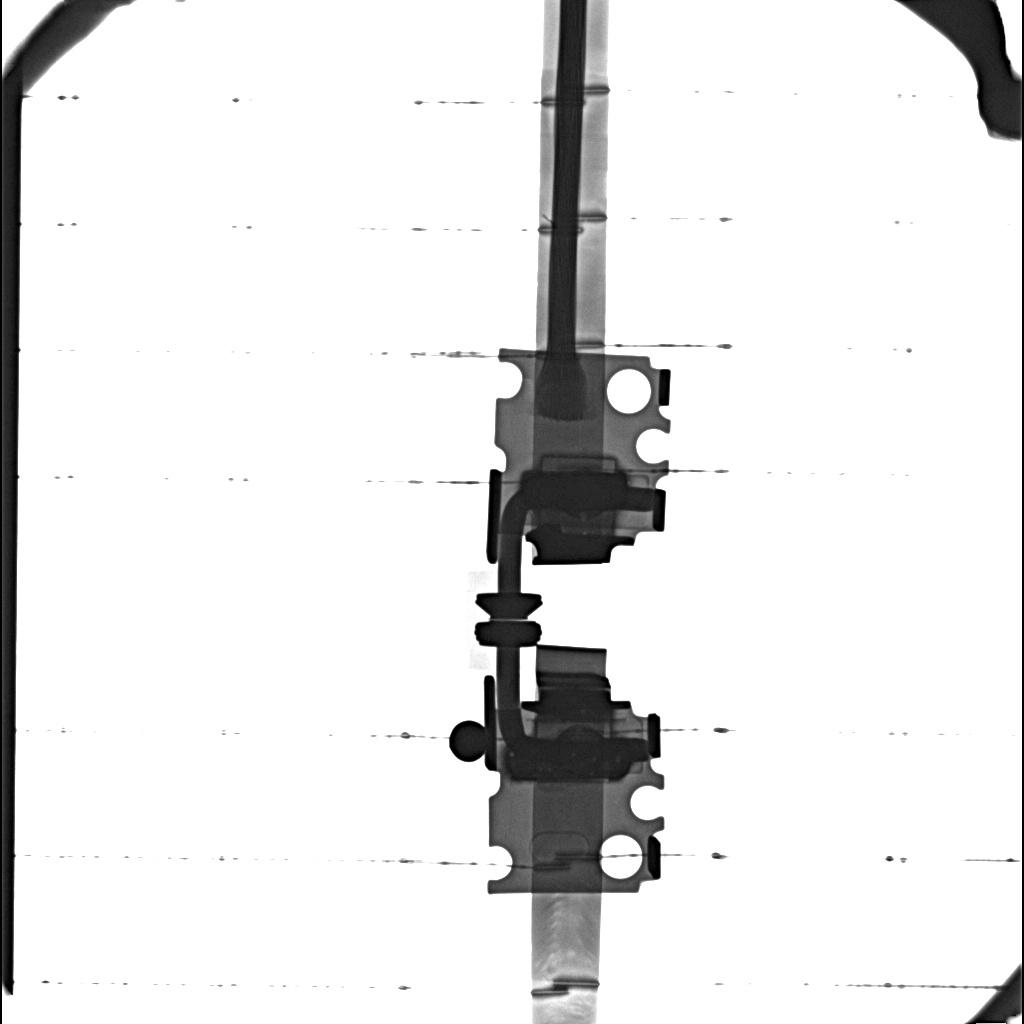defect: (507, 736, 630, 780), (521, 471, 629, 511), (540, 454, 618, 471)
